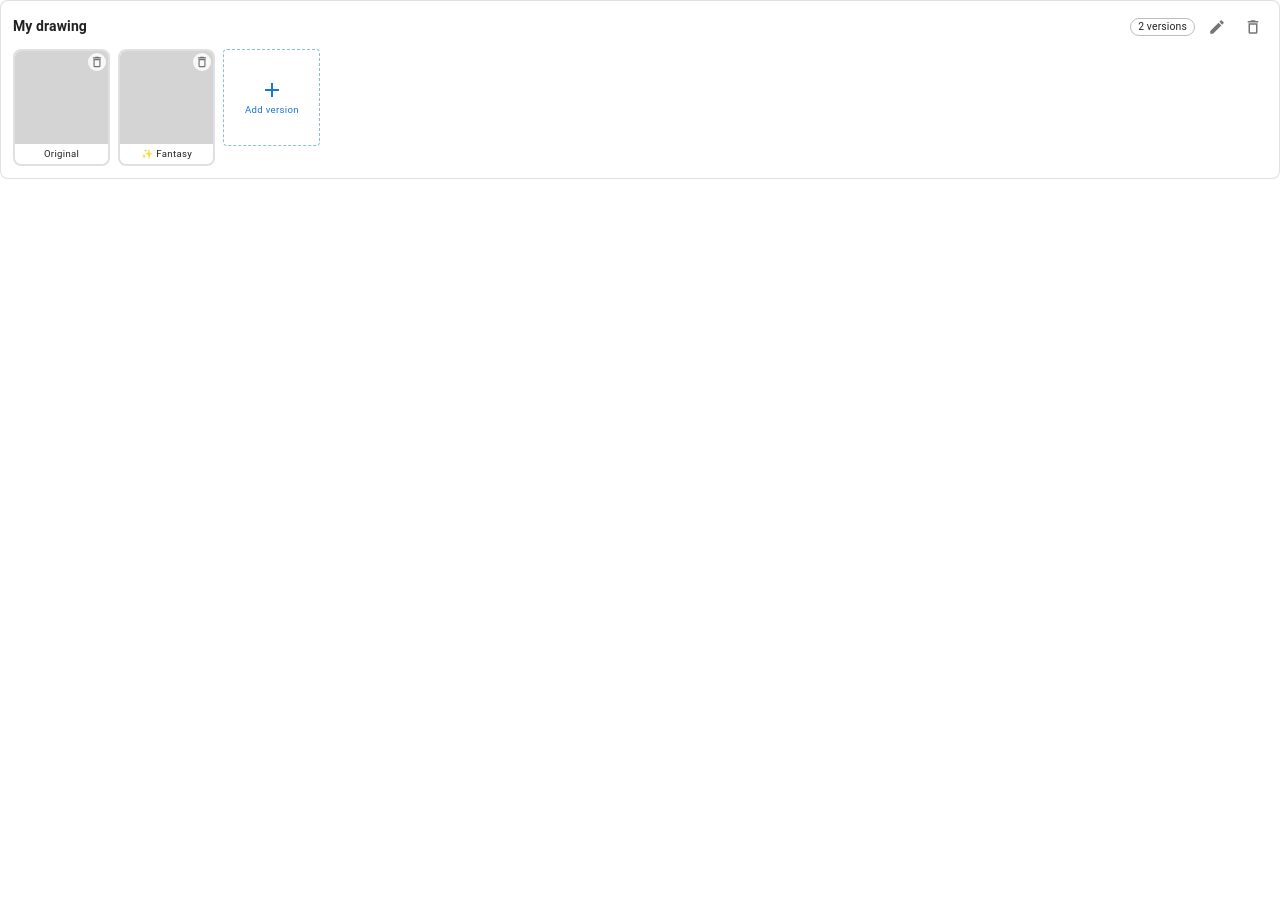
Scenario: DrawingGroupCard rename (FEAT-160) › will not save a blank name
This screenshot has width=1280, height=900.
Click the button named "Rename drawing" at (1217, 27), box [1203,13,1231,41]
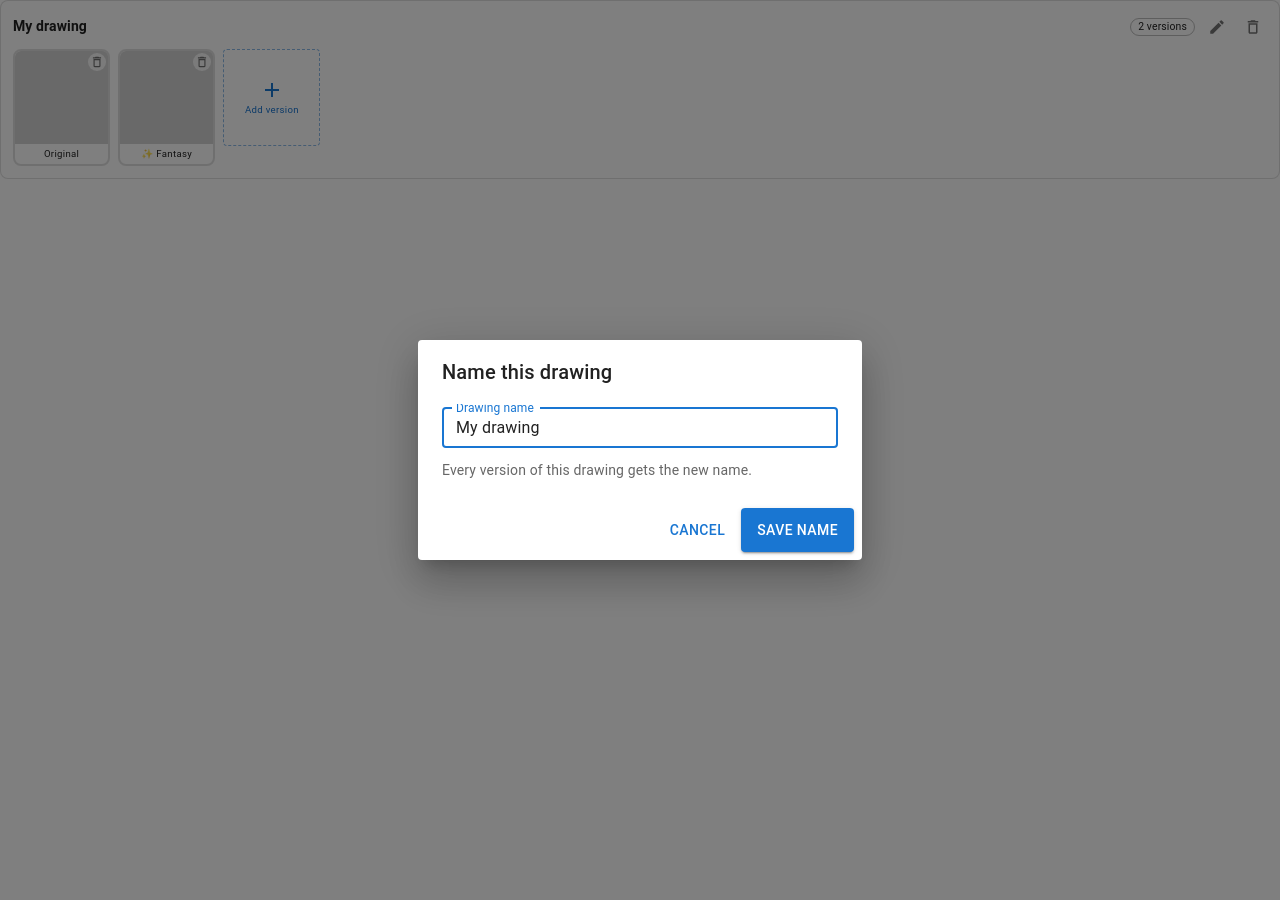
Clear the field labelled "Drawing name" at (640, 428), box [442,408,838,448]
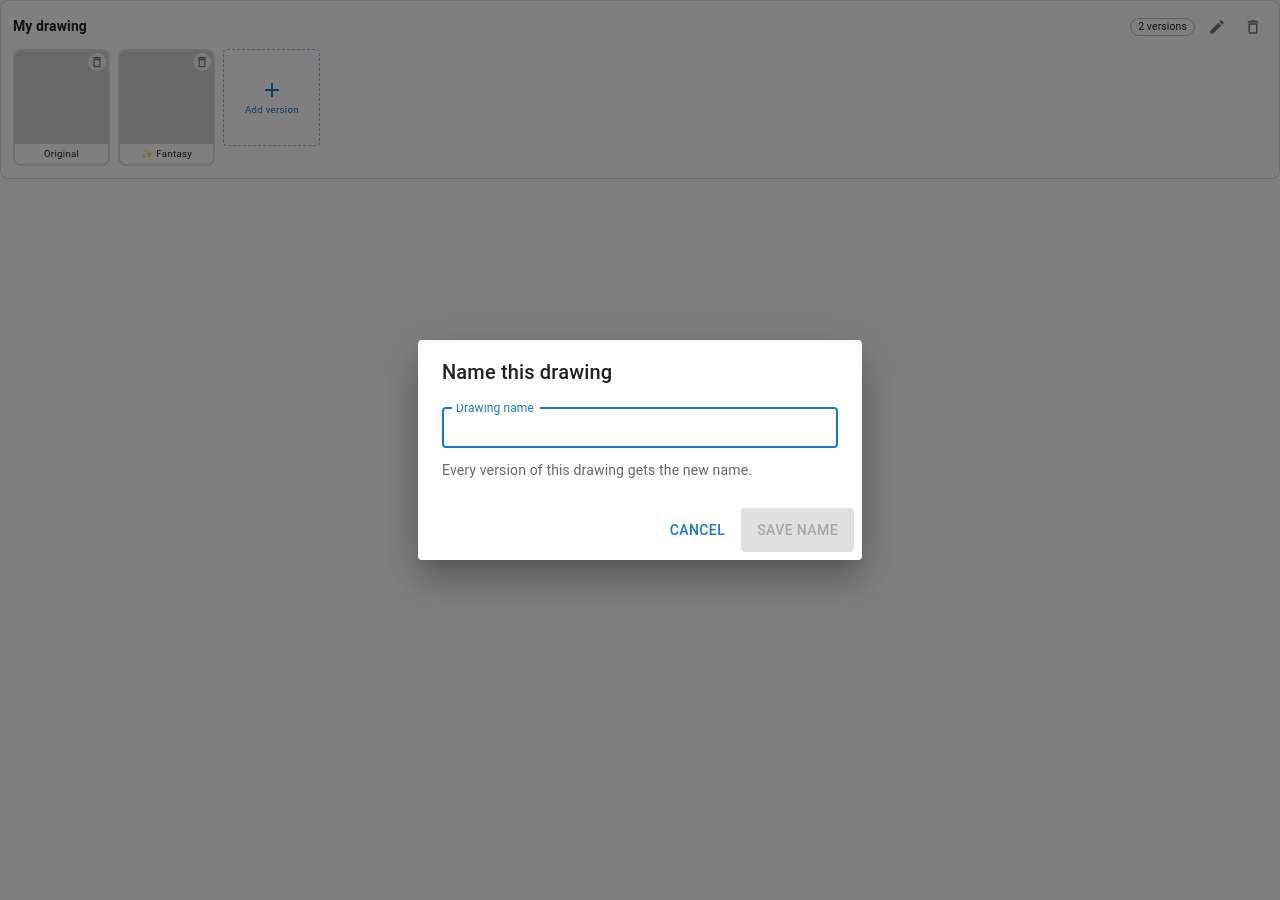
Check: the button "Save name" is disabled, box [741,508,854,552]
